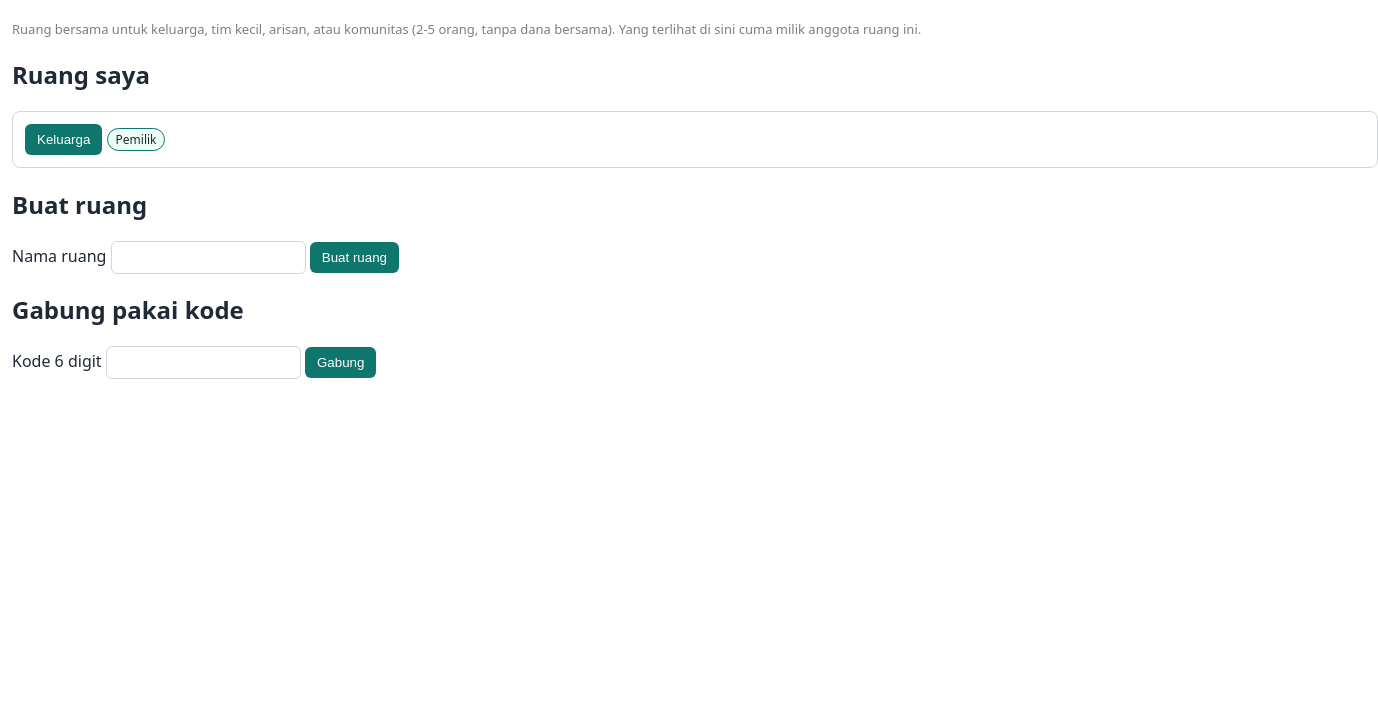
Test: RoomsScreen group chat names (V2-27) › shows display names in the member list and never a raw UUID
Click the button "Keluarga".
click(64, 139)  # box [25,124,102,155]
(page scrolled)
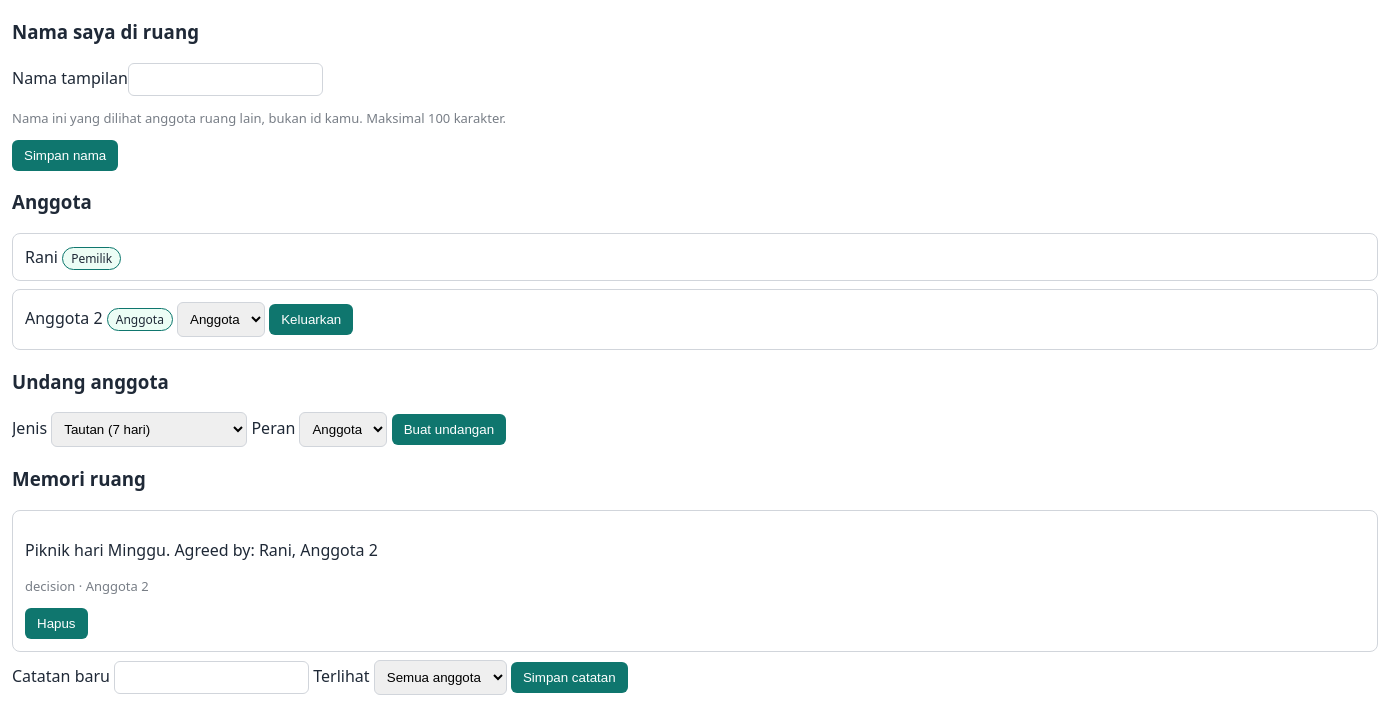
Result: the text "Rani" is shown at [25,246,58,268]
Result: the text "Anggota 2" is shown at [25,307,102,329]
